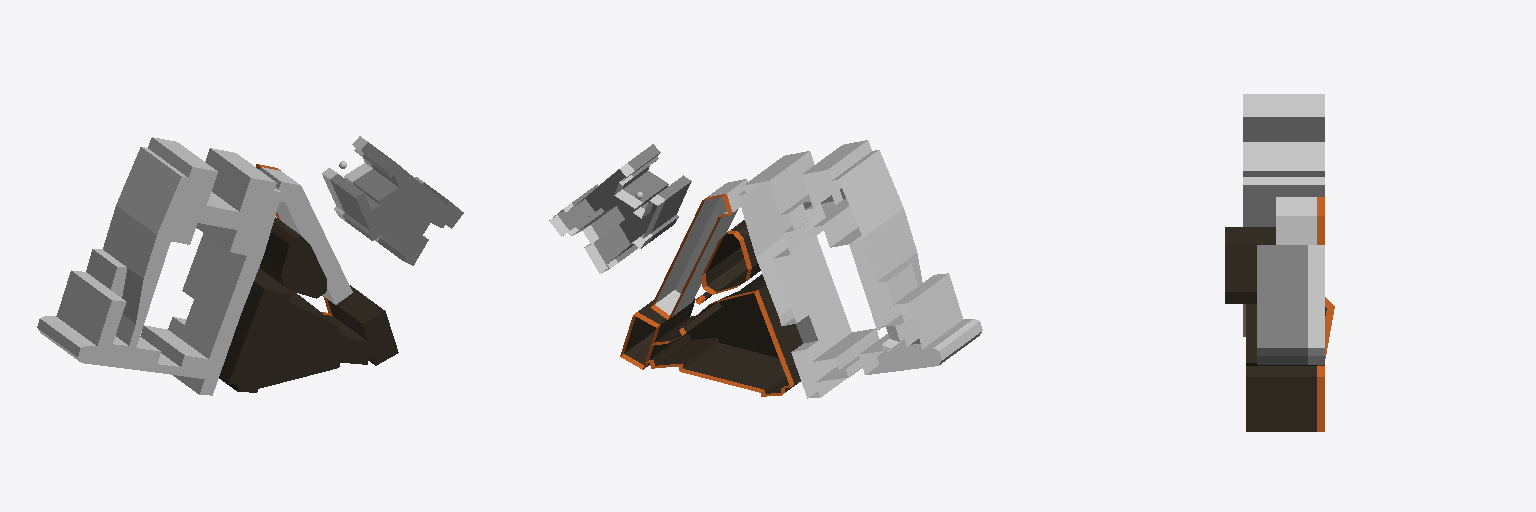
File: kth_campus.obj
3 views of the same model, side by side, from view 1: azimuth 30°, elevation 25°; view 2: azimuth 150°, elevation 25°; view 3: azimuth 270°, elevation 25° (orthographic).
Size of the model in its own units: 0.6552 by 0.3904 by 0.1586.